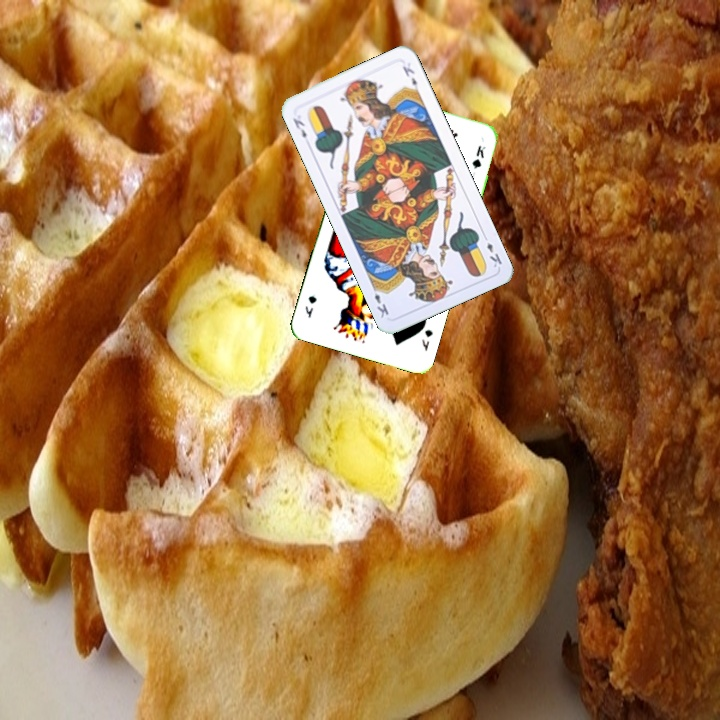EK: (479, 230, 505, 270), (289, 114, 309, 141)
GK: (418, 325, 436, 354)
